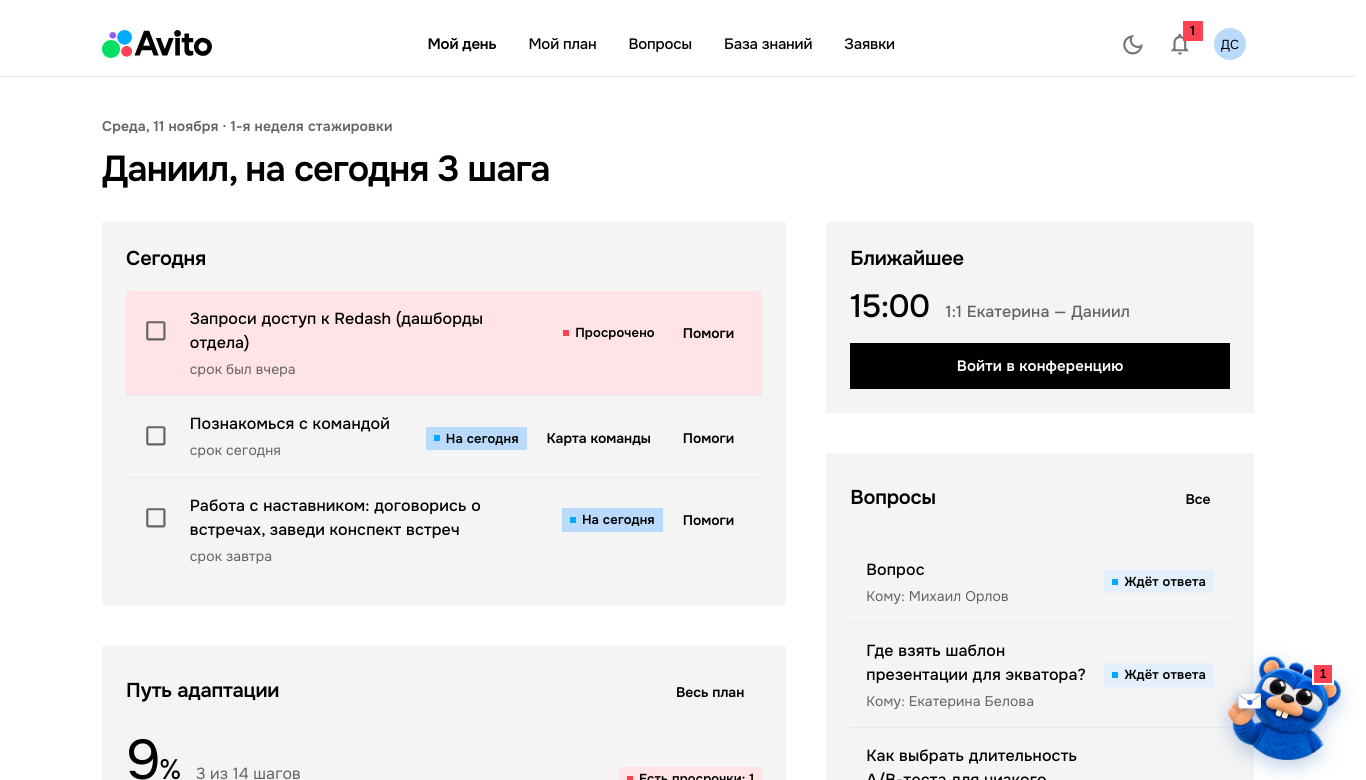
Test: ветви интерфейса стажёра › просроченный и скрытый вопросы в «Вопросах»
Click the button "Вопросы".
click(660, 44)  # box [614,12,706,76]
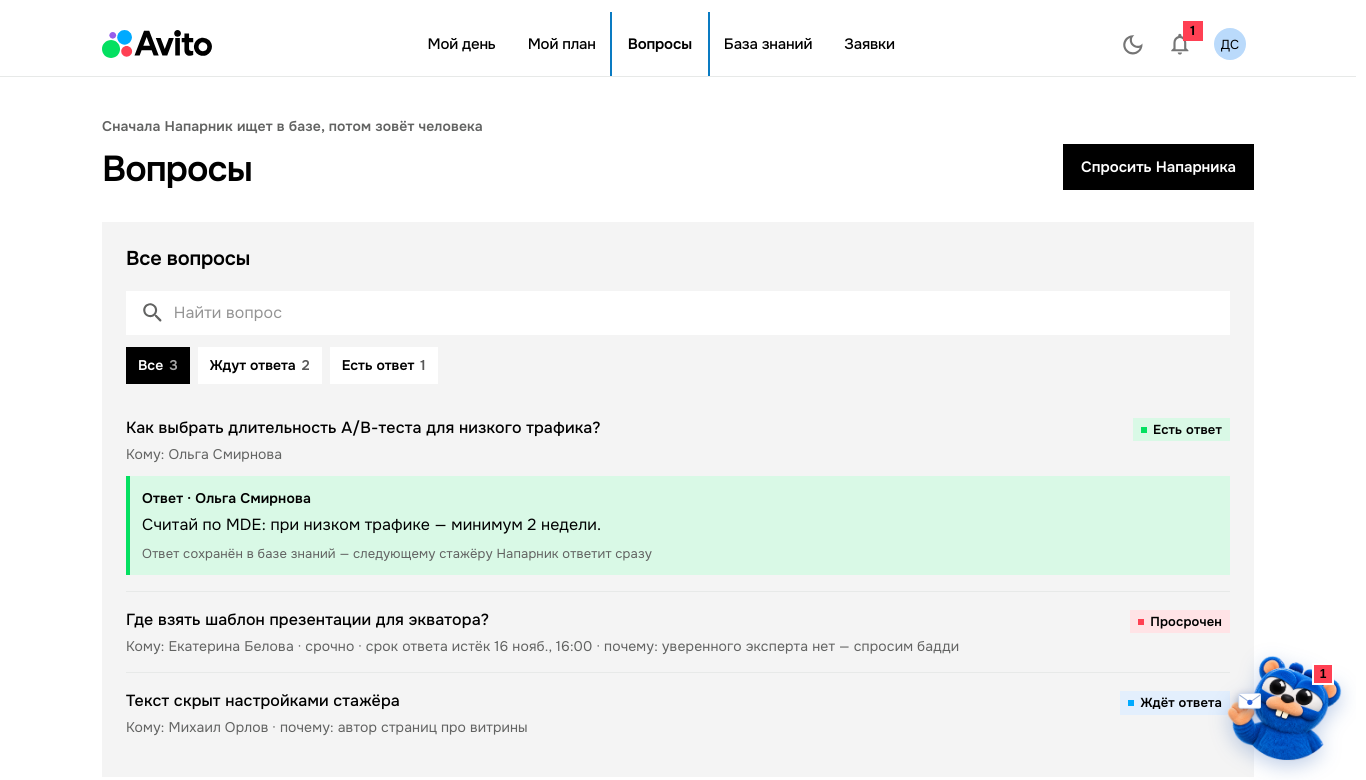
Expected: the text "Просрочен" is shown, [1130,610,1230,633]
Expected: the text "Текст скрыт настройками стажёра" is shown, [126,690,400,711]
